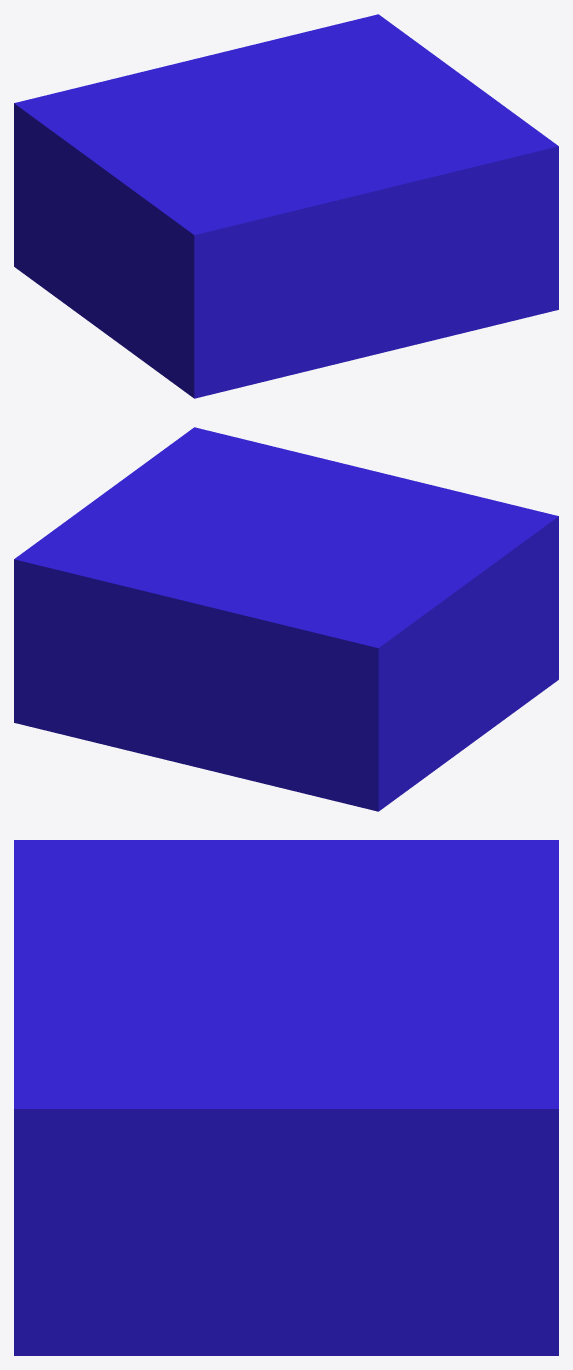
Rendered from buttonEntranceDoor.glb.
The picture shows the model from 3 angles, top to bottom: view 1: azimuth 30°, elevation 25°; view 2: azimuth 150°, elevation 25°; view 3: azimuth 270°, elevation 25°; orthographic projection. The views are drawn at different scales.
Parts seen in each view (by area): view 1: Cube.001; view 2: Cube.001; view 3: Cube.001.
Part boxes in pixels (x1,y1,x2,y2): Cube.001: [14, 14, 558, 398]; Cube.001: [14, 427, 558, 811]; Cube.001: [14, 840, 558, 1355].
Bounding box in the file's own units: 0.7 × 0.3 × 0.6.
